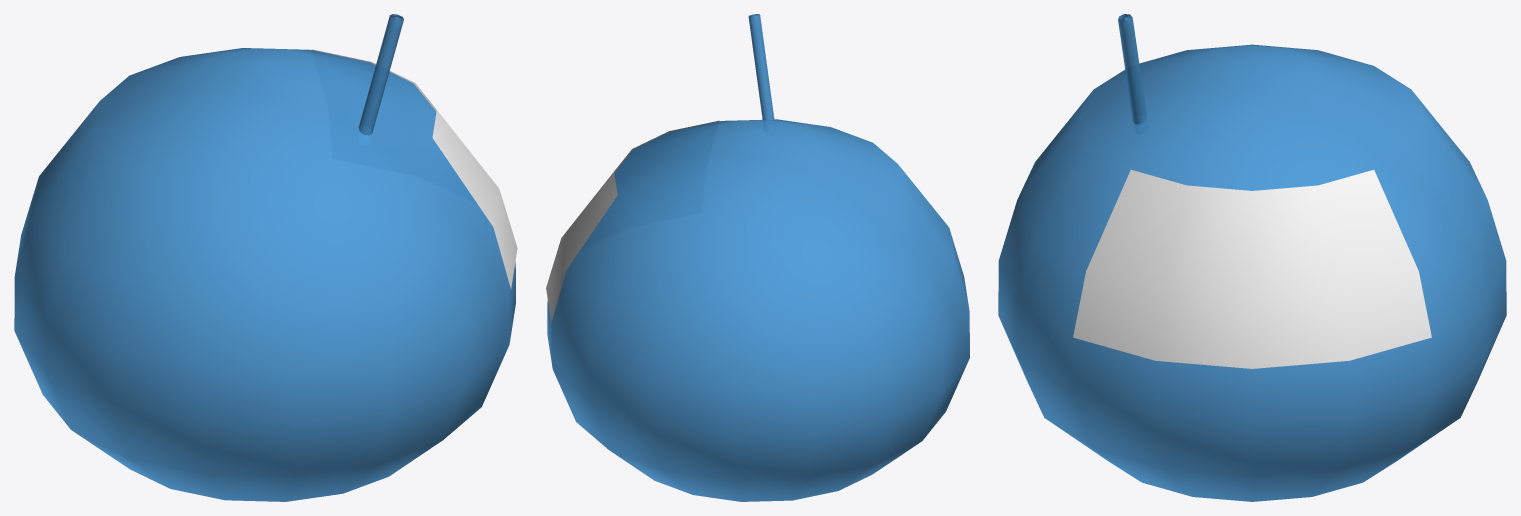
The model's file is creature.glb.
3 renders of one model, left to right at view 1: azimuth 30°, elevation 25°; view 2: azimuth 150°, elevation 25°; view 3: azimuth 270°, elevation 25°, orthographic. The views are drawn at different scales.
Visible parts, largest first — view 1: bod, czulek; view 2: bod, czulek; view 3: bod, czulek.
Part boxes in pixels (x1,y1,x2,y2): bod: (14, 48, 517, 501); czulek: (355, 14, 403, 145); bod: (546, 119, 969, 501); czulek: (748, 14, 774, 131); bod: (998, 44, 1506, 501); czulek: (1118, 14, 1147, 133).
Size of the model in its own units: 1.24 by 1.29 by 1.23.
2 materials, 1 textured.
